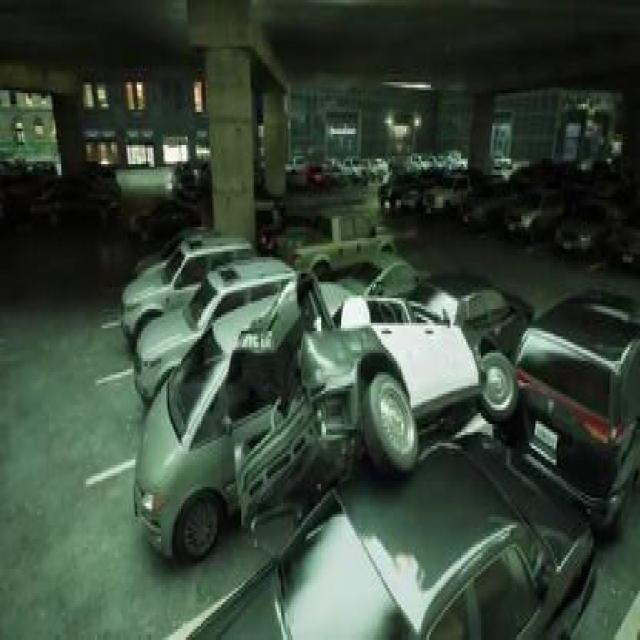accident: (172, 281, 599, 640)
